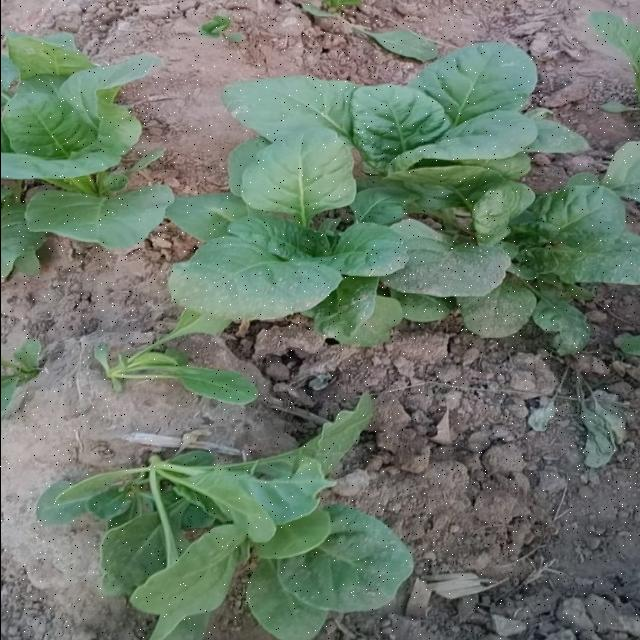plant: (1, 34, 640, 404), (36, 396, 411, 640)
